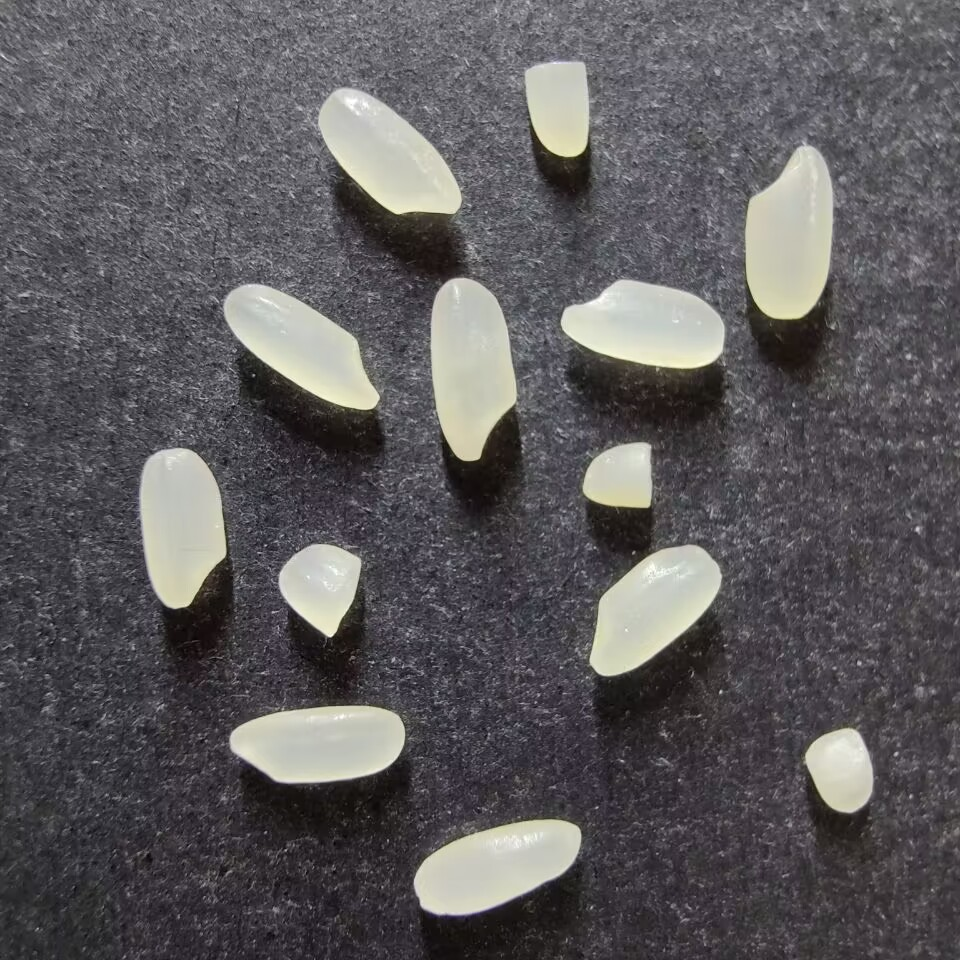broken: (277, 542, 362, 638), (524, 60, 590, 157), (804, 728, 874, 813), (581, 441, 654, 509)
rice: (222, 283, 380, 410), (317, 86, 463, 215), (588, 544, 723, 677), (413, 818, 582, 916), (429, 277, 517, 461), (743, 145, 833, 320), (559, 278, 724, 369), (138, 447, 226, 610), (228, 705, 406, 784)
